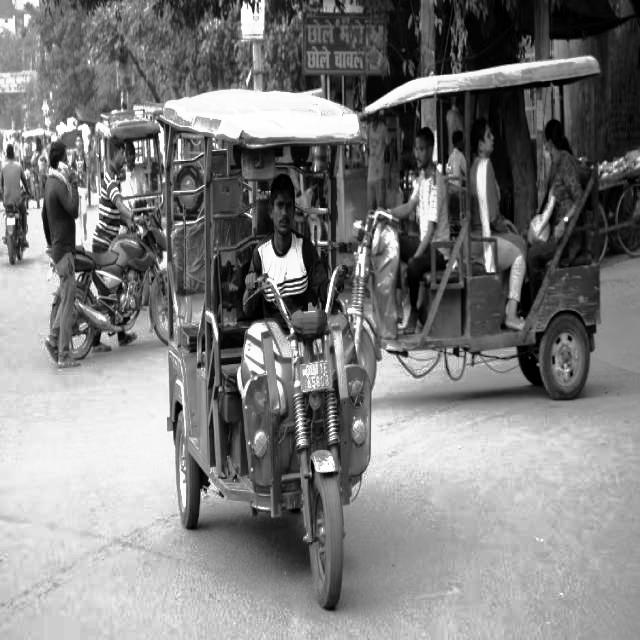Toto: (164, 90, 368, 616), (356, 48, 610, 397)
